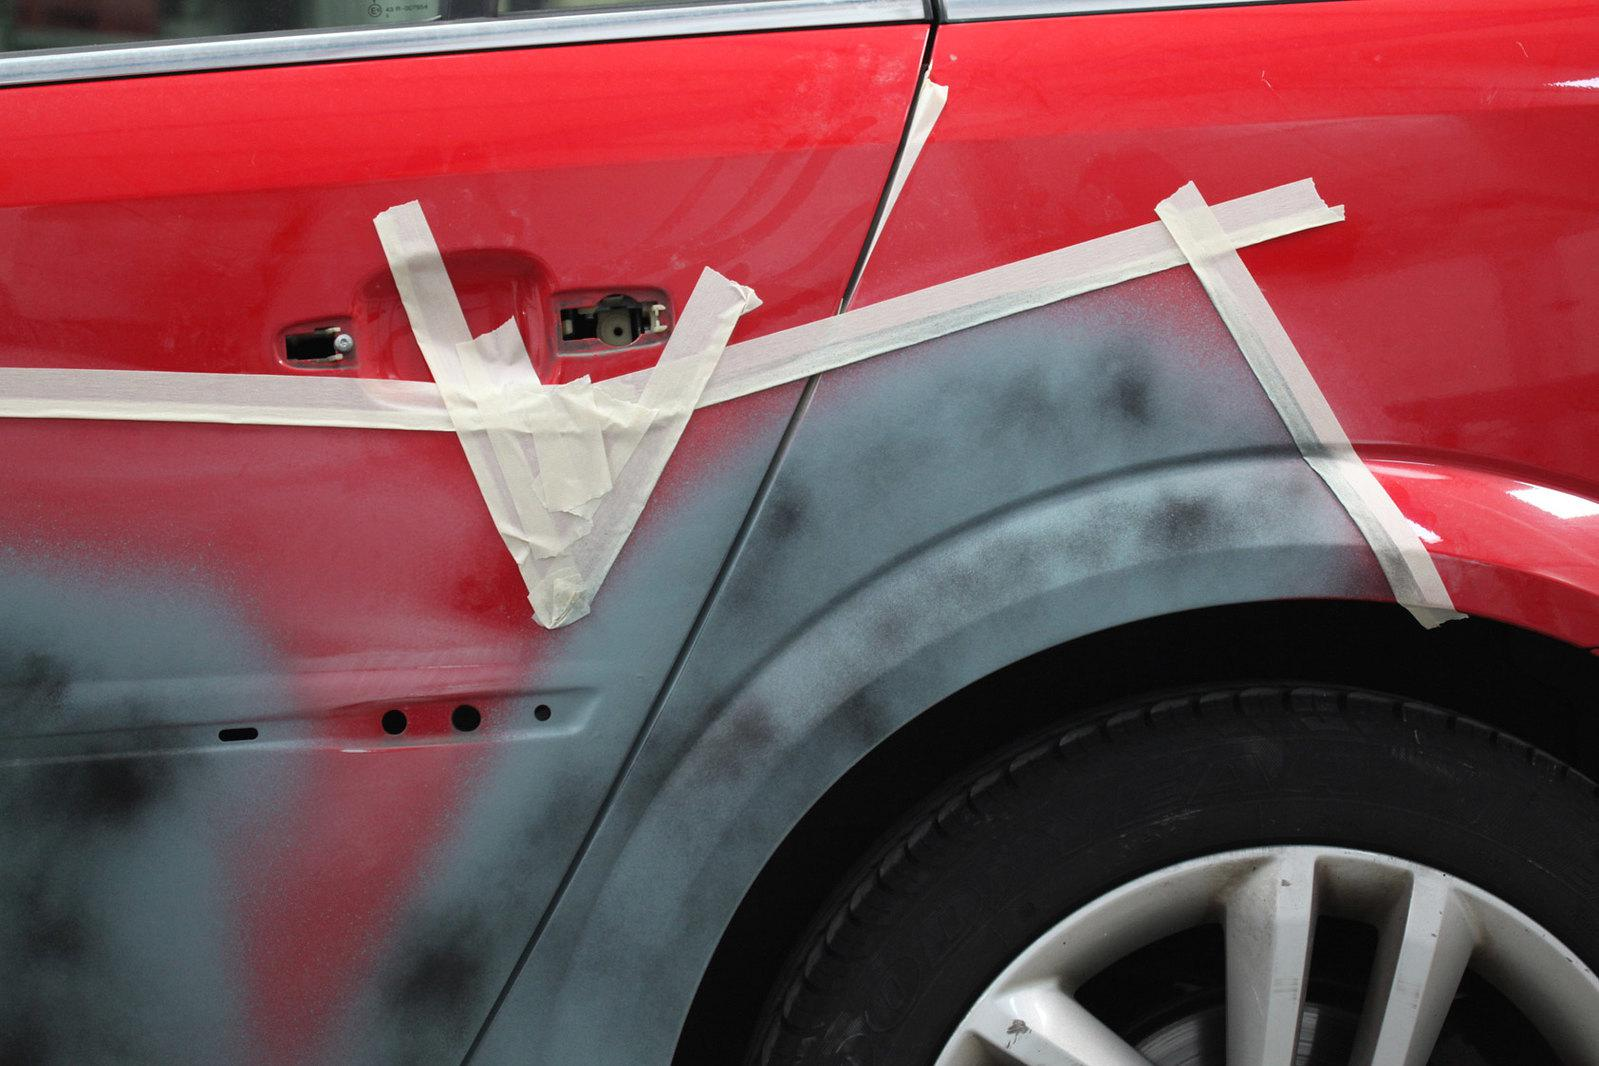doorouter-dent: (0, 93, 815, 930)
quaterpanel-dent: (916, 79, 1595, 628)
